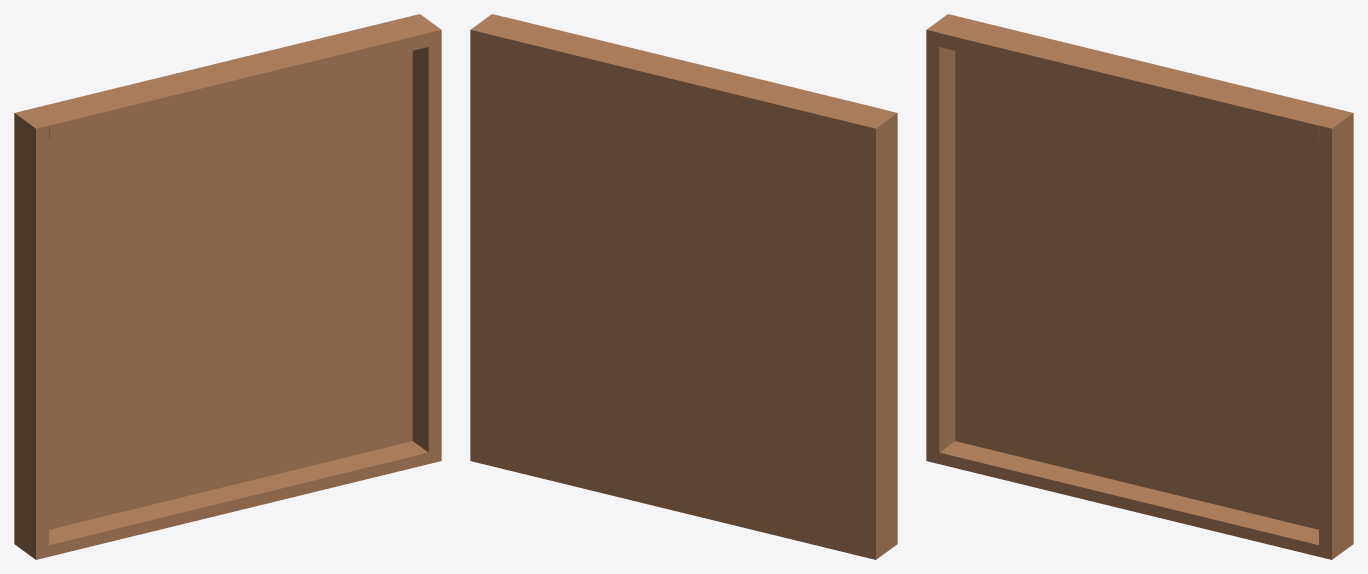
The model's file is Panel2by2.fbx.
3 views of the same model, side by side, from view 1: azimuth 30°, elevation 25°; view 2: azimuth 150°, elevation 25°; view 3: azimuth 330°, elevation 25° (orthographic).
Parts seen in each view (by area): view 1: Panel2by2; view 2: Panel2by2; view 3: Panel2by2.
Part boxes in pixels (x1,y1,x2,y2): Panel2by2: (14,14,441,559); Panel2by2: (470,14,897,559); Panel2by2: (926,14,1353,559).
Size of the model in its own units: 56.06 by 5.2 by 56.98.
